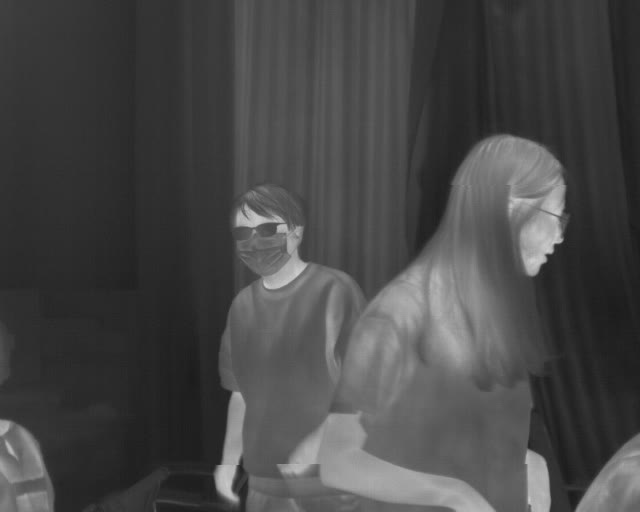face: (230, 183, 305, 275)
